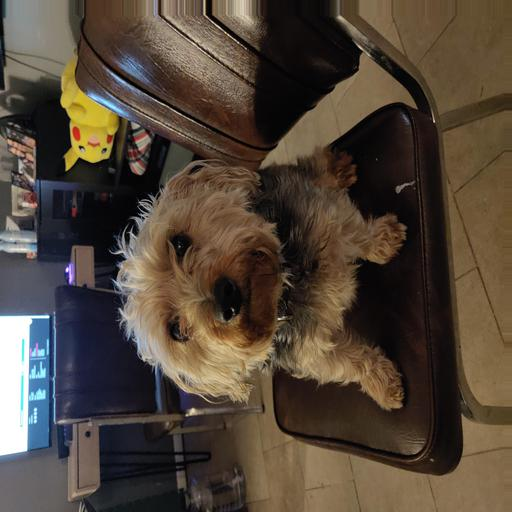dog: (110, 168, 321, 379)
